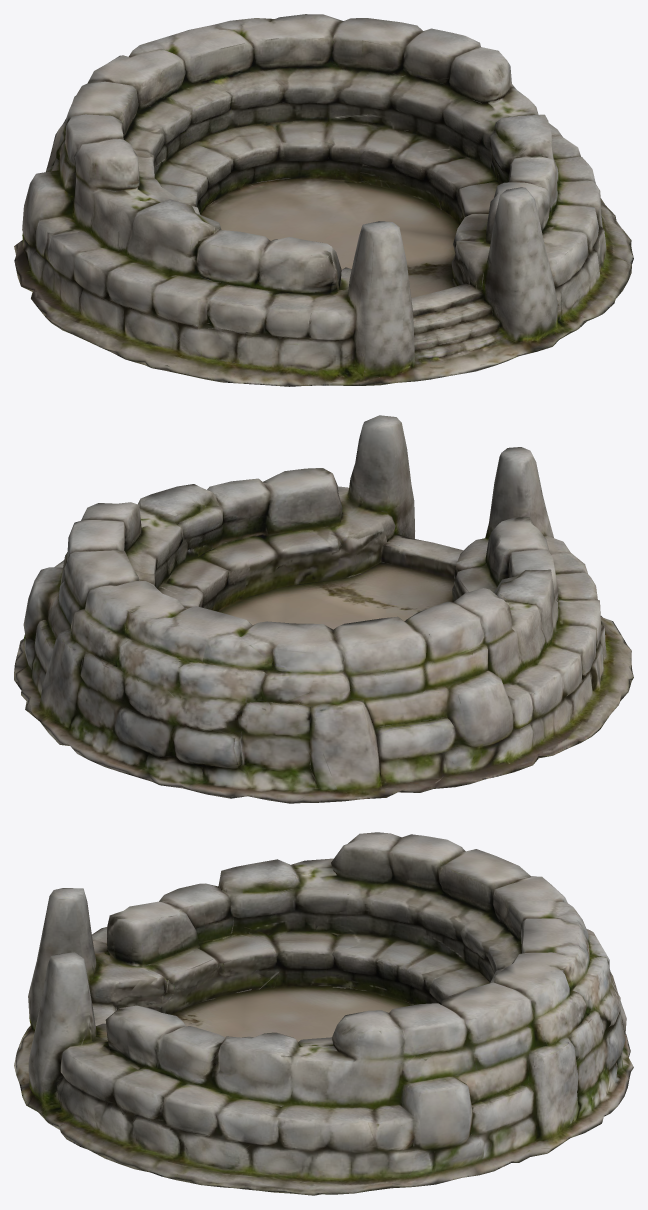
File: Ancient_Stone_Amphith.glb
The picture shows the model from 3 angles, top to bottom: view 1: azimuth 30°, elevation 25°; view 2: azimuth 150°, elevation 25°; view 3: azimuth 270°, elevation 25°; orthographic projection.
Visible parts, largest first — view 1: Ancient_Stone_Amphith; view 2: Ancient_Stone_Amphith; view 3: Ancient_Stone_Amphith.
Part boxes in pixels (x1,y1,x2,y2): Ancient_Stone_Amphith: (14,14,633,386); Ancient_Stone_Amphith: (14,415,633,803); Ancient_Stone_Amphith: (14,832,633,1195).
Size of the model in its own units: 1.9 by 0.4767 by 1.91.
Materials: 1 (1 with a texture image).
